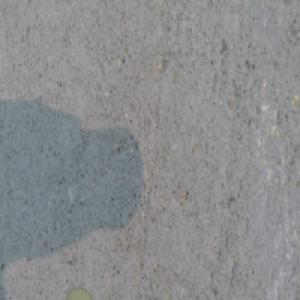Washer: (67, 286, 92, 300)
